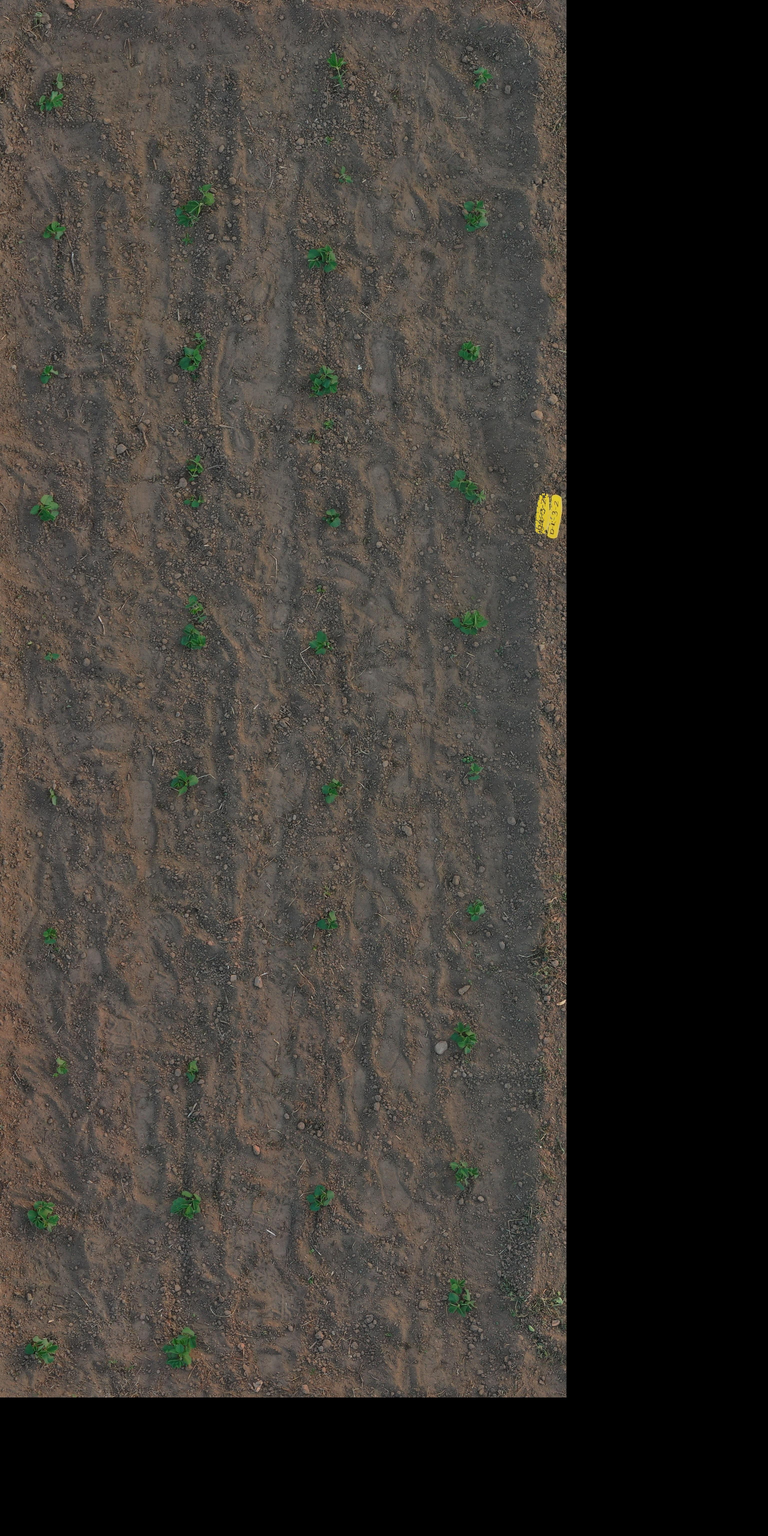s: (184, 182, 215, 218), (327, 52, 348, 89), (184, 594, 207, 623), (162, 1343, 192, 1365), (28, 494, 58, 516), (176, 769, 199, 797), (178, 346, 202, 370), (449, 469, 478, 488), (457, 1024, 478, 1048), (450, 1024, 470, 1049), (316, 365, 336, 389), (187, 454, 204, 482), (460, 1289, 476, 1318), (176, 1326, 197, 1348), (316, 910, 339, 930), (41, 1338, 58, 1364), (181, 1190, 202, 1210), (307, 248, 326, 270), (320, 250, 338, 273), (451, 610, 474, 628), (177, 212, 202, 228), (474, 65, 494, 85), (463, 200, 488, 216), (458, 481, 478, 501), (45, 91, 64, 112), (458, 339, 477, 360), (47, 220, 66, 240), (470, 610, 489, 630), (27, 1210, 46, 1230), (40, 1214, 60, 1233), (170, 1196, 189, 1216), (24, 1335, 43, 1355), (322, 374, 340, 395), (316, 630, 334, 651), (33, 1200, 55, 1217), (449, 1160, 469, 1178), (309, 1196, 331, 1212), (448, 1292, 463, 1315), (40, 365, 58, 384), (315, 1184, 335, 1201), (468, 904, 486, 922), (306, 1186, 324, 1204), (308, 638, 327, 655), (322, 785, 339, 804), (326, 508, 342, 528), (186, 1060, 199, 1084), (183, 623, 201, 640), (180, 633, 199, 649), (450, 1277, 467, 1294), (338, 165, 354, 183), (182, 1204, 200, 1220), (454, 1173, 470, 1191), (470, 214, 489, 229), (165, 1357, 188, 1369), (190, 634, 207, 650), (192, 332, 207, 350), (311, 378, 326, 396), (464, 346, 482, 361), (466, 899, 484, 914), (34, 1344, 48, 1363), (42, 928, 58, 944), (464, 212, 476, 232), (172, 1337, 187, 1353), (39, 510, 59, 522), (473, 489, 487, 506), (459, 624, 478, 636), (51, 73, 64, 90), (183, 495, 200, 508), (56, 1057, 69, 1074), (468, 768, 484, 781), (42, 222, 54, 239), (180, 1203, 194, 1217), (175, 204, 191, 216), (320, 244, 336, 256), (475, 74, 487, 90), (36, 93, 46, 112), (464, 1036, 474, 1055), (43, 652, 61, 662), (328, 778, 344, 789), (467, 1166, 479, 1179), (171, 777, 185, 788), (49, 788, 57, 806), (309, 373, 320, 386), (185, 362, 199, 372), (322, 516, 333, 525), (462, 755, 473, 762), (466, 759, 475, 764), (52, 1073, 58, 1077)
